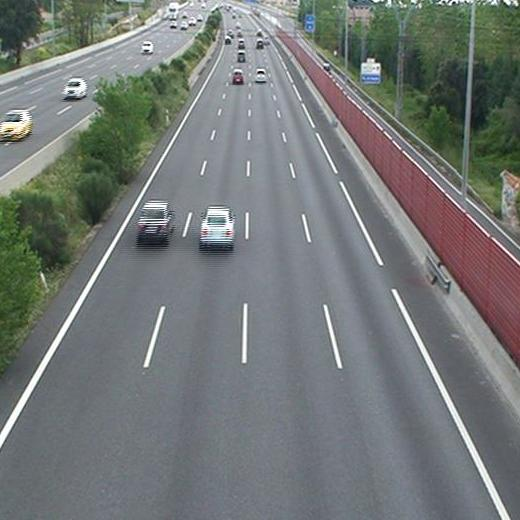car: (200, 207, 235, 244), (139, 204, 173, 239), (255, 69, 266, 82), (233, 71, 242, 82), (237, 40, 246, 49), (255, 39, 263, 49), (237, 52, 245, 61)
